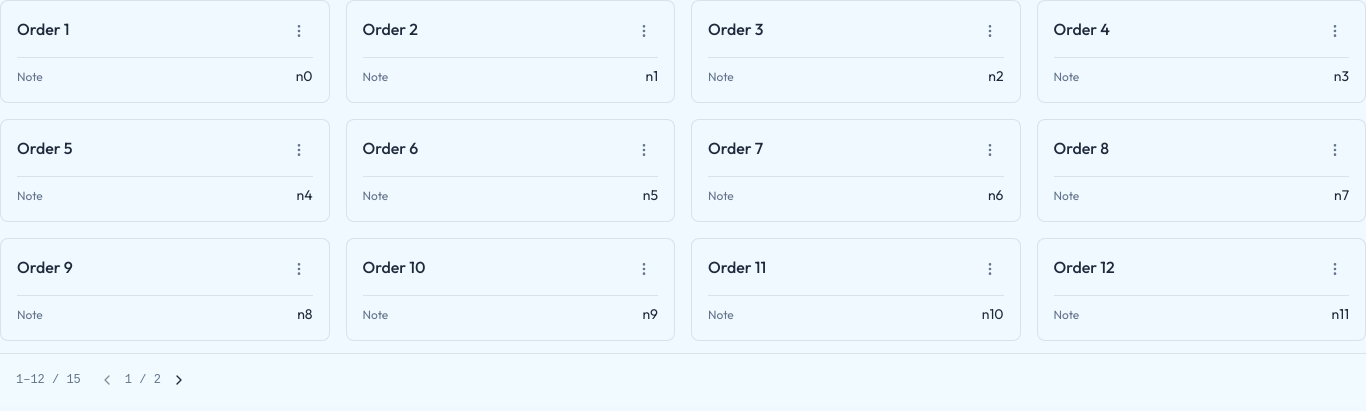
RecordGallery › paginates through the shared TablePagination footer (fixed card page size)
Expected: the text "1–12 / 15" is shown, [16,372,81,388]
Click the button named "Next" at (179, 380), box [165,366,193,394]
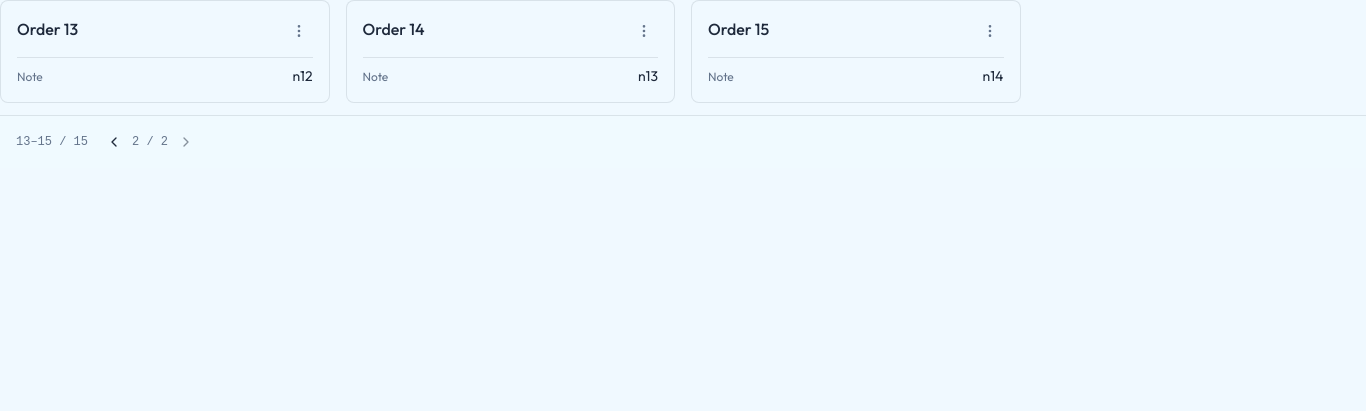
Expected: the text "Order 13" is shown, [17,17,78,41]
Expected: the text "13–15 / 15" is shown, [16,134,88,150]
Expected: the text "2 / 2" is shown, [132,134,168,150]
